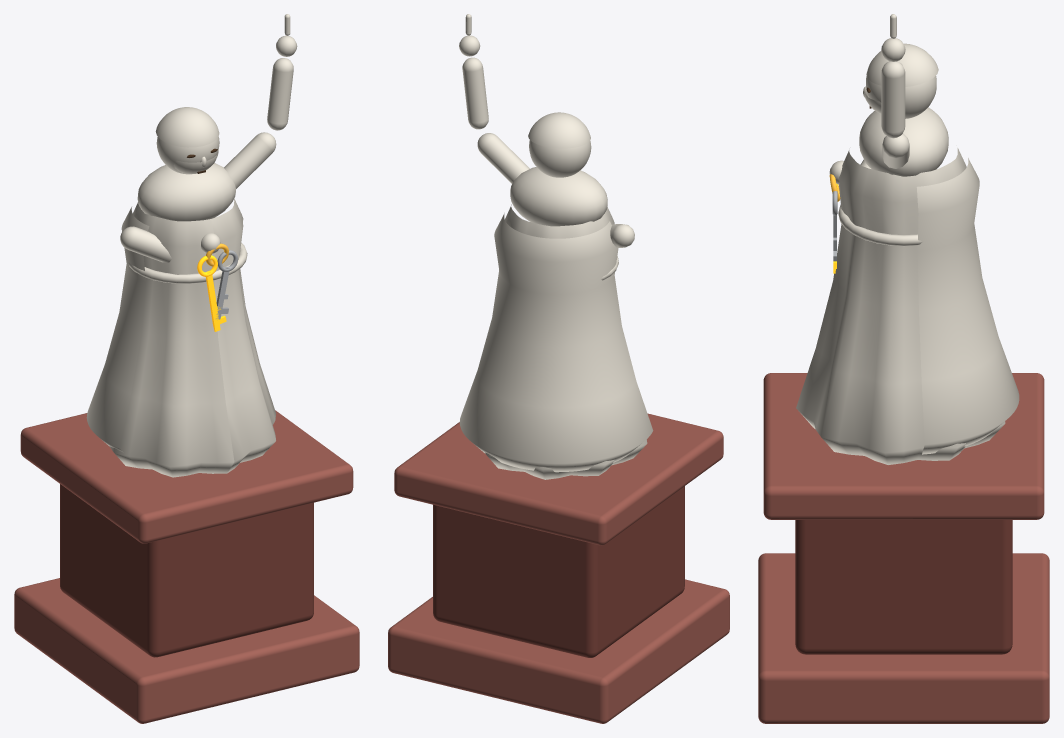
Rendered from statue-peter.glb.
3 renders of one model, left to right at view 1: azimuth 30°, elevation 25°; view 2: azimuth 150°, elevation 25°; view 3: azimuth 270°, elevation 25°, orthographic. The views are drawn at different scales.
Visible parts, largest first — view 1: Pedestal, Robe, Plinth, Cap, Cloak, Shoulders, Hair, ForeR, ArmR, Key (×2), ArmL, Head (+1 smaller); view 2: Cloak, Pedestal, Plinth, Cap, Shoulders, Robe, Hair, Head, ForeR, ArmR; view 3: Pedestal, Robe, Plinth, Cap, Cloak, Shoulders, ForeR, Hair, Head, object 7, ArmR, HandR.
Part boxes in pixels (left/top/right/bottom): Pedestal: left=60, top=484, right=313, bottom=657; Robe: left=109, top=198, right=276, bottom=477; Plinth: left=14, top=578, right=359, bottom=723; Cap: left=20, top=410, right=353, bottom=543; Cloak: left=86, top=207, right=149, bottom=452; Shoulders: left=137, top=163, right=235, bottom=221; Hair: left=155, top=107, right=219, bottom=147; ForeR: left=267, top=58, right=293, bottom=130; ArmR: left=224, top=132, right=276, bottom=188; Key (×2): left=197, top=250, right=237, bottom=331; ArmL: left=120, top=226, right=171, bottom=262; Head: left=156, top=137, right=219, bottom=174; Cloak: left=459, top=213, right=653, bottom=472; Pedestal: left=433, top=486, right=684, bottom=657; Plinth: left=388, top=579, right=729, bottom=723; Cap: left=394, top=413, right=723, bottom=545; Shoulders: left=510, top=167, right=607, bottom=226; Robe: left=485, top=204, right=647, bottom=479; Hair: left=528, top=112, right=590, bottom=148; Head: left=529, top=140, right=591, bottom=177; ForeR: left=462, top=57, right=488, bottom=129; ArmR: left=477, top=133, right=529, bottom=183; Pedestal: left=795, top=520, right=1012, bottom=654; Robe: left=796, top=148, right=1005, bottom=464; Plinth: left=758, top=553, right=1049, bottom=723; Cap: left=763, top=373, right=1044, bottom=519; Cloak: left=916, top=158, right=1019, bottom=454; Shoulders: left=859, top=107, right=948, bottom=176; ForeR: left=881, top=61, right=905, bottom=138; Hair: left=866, top=43, right=938, bottom=86; Head: left=866, top=76, right=936, bottom=118; object 7: left=838, top=204, right=923, bottom=246; ArmR: left=882, top=133, right=909, bottom=168; HandR: left=881, top=38, right=905, bottom=61.
Size of the model in its own units: 1.1 by 2.93 by 1.1.
